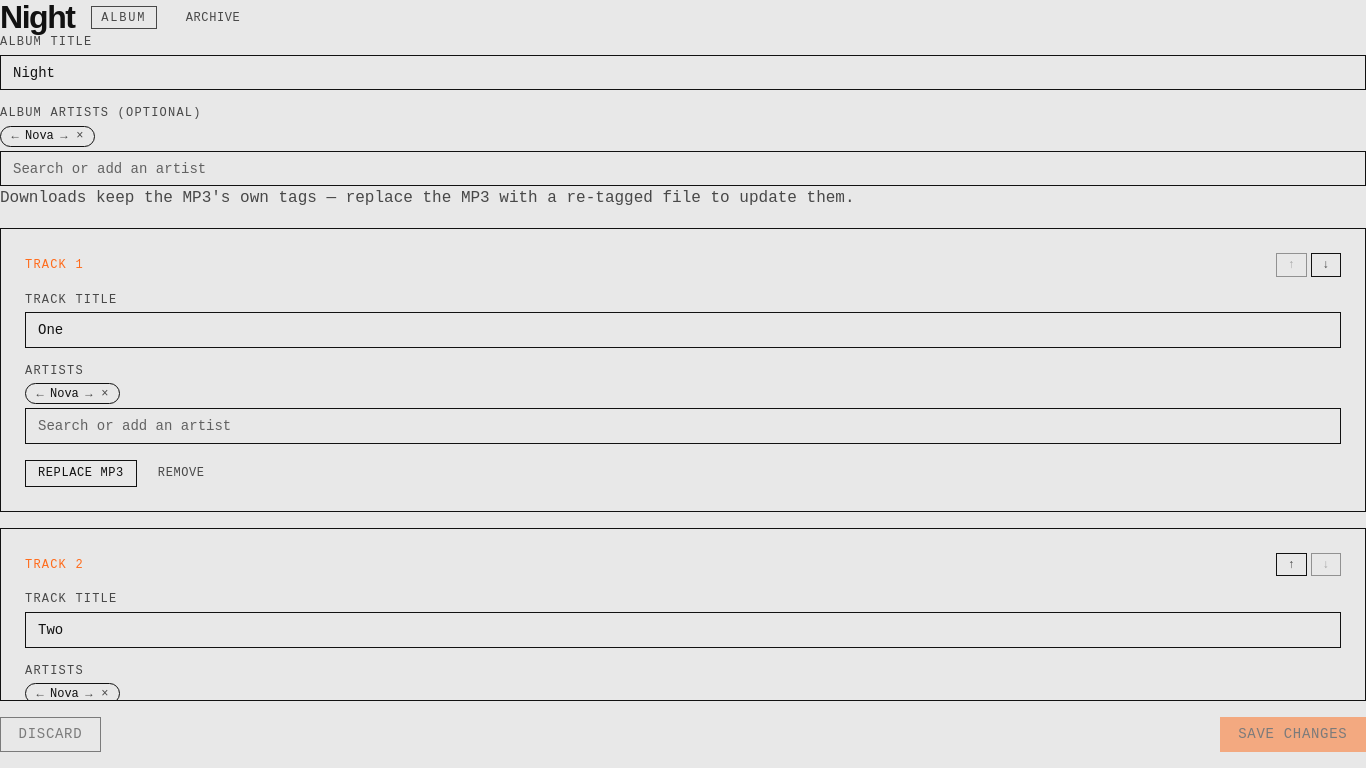
Test case: EditReleaseForm › locks the draft while the Remove dialog is open, and unlocks on cancel
Expected: the 1st field labelled "Track title" is enabled, [25,312,1341,348]
What coordinates should you click on to do the following:
click the button with aria-label "Remove One"
I would click on:
 (181, 473)
Its box is [145,460,218,487].
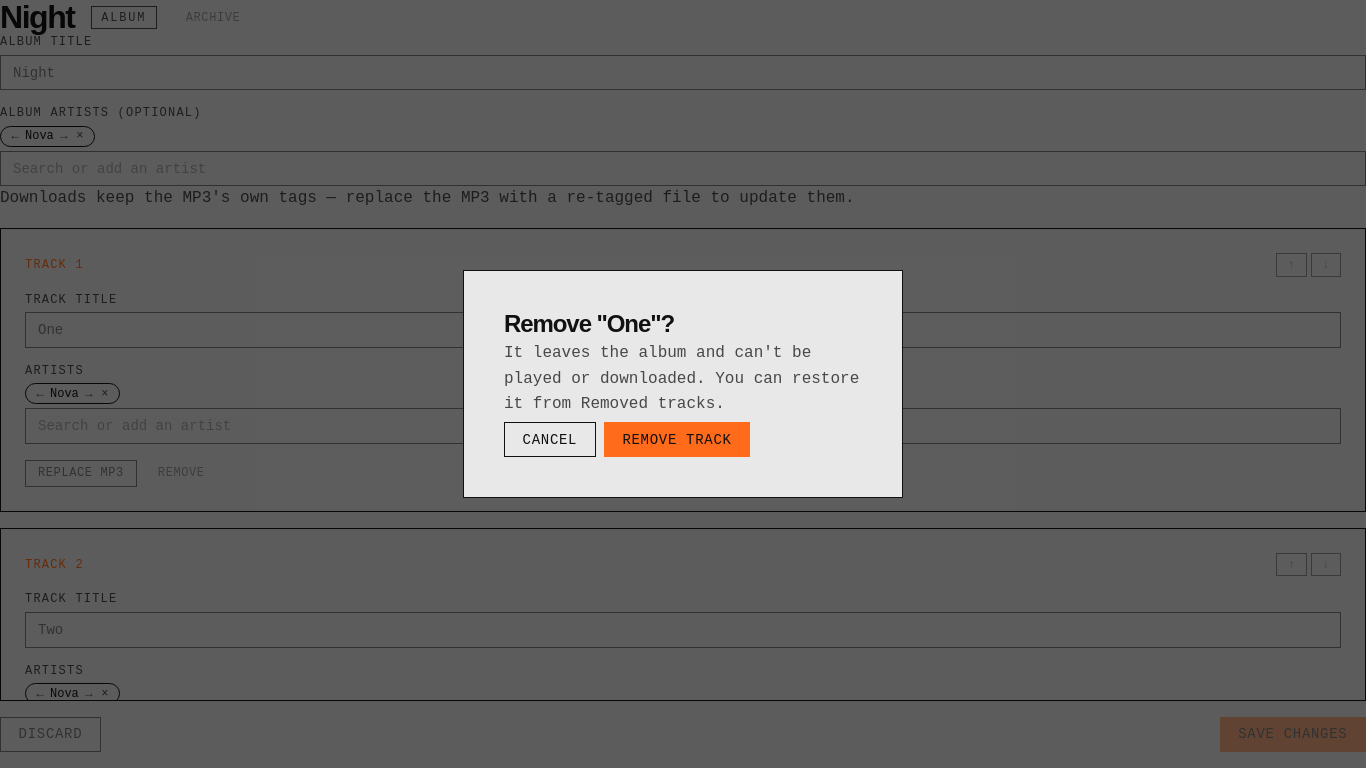
Expected: the field labelled "Track title" is disabled, [25,312,1341,348]
What coordinates should you click on to do the following:
click the button "Cancel"
I would click on:
 (550, 440)
Its box is [504,422,596,457].
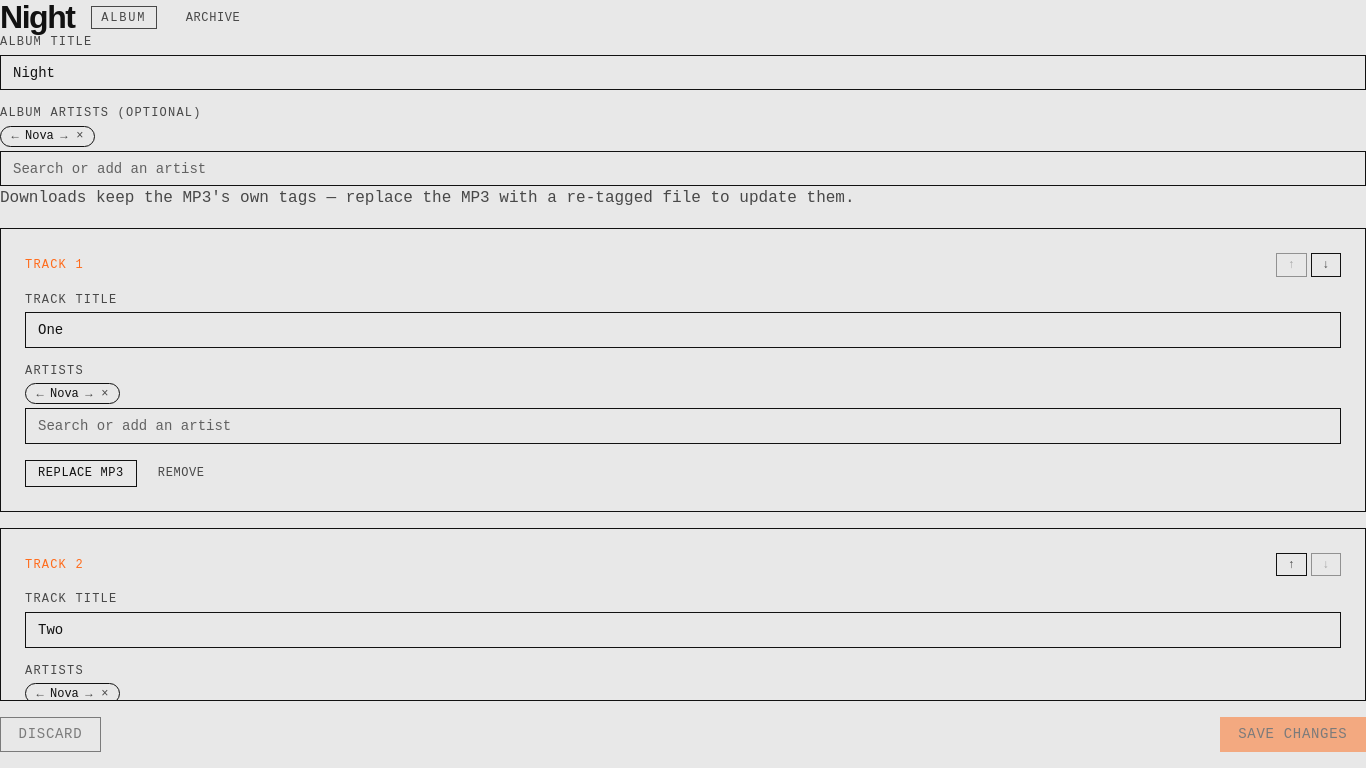
Expected: the 1st field labelled "Track title" is enabled, [25,312,1341,348]
